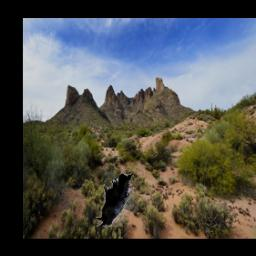Crow: (96, 170, 134, 227)
